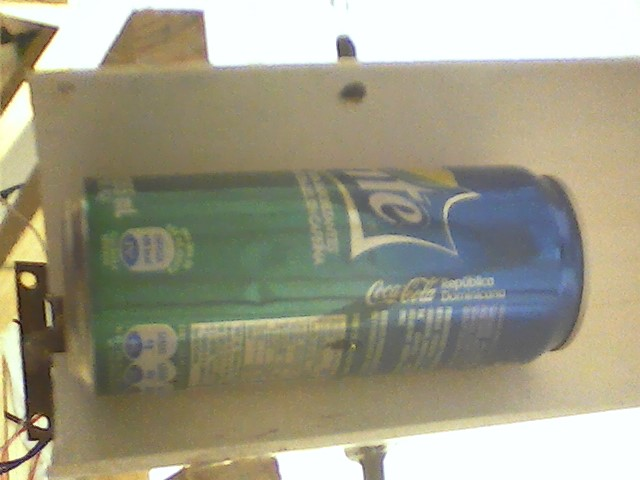lata: (56, 162, 602, 395)
